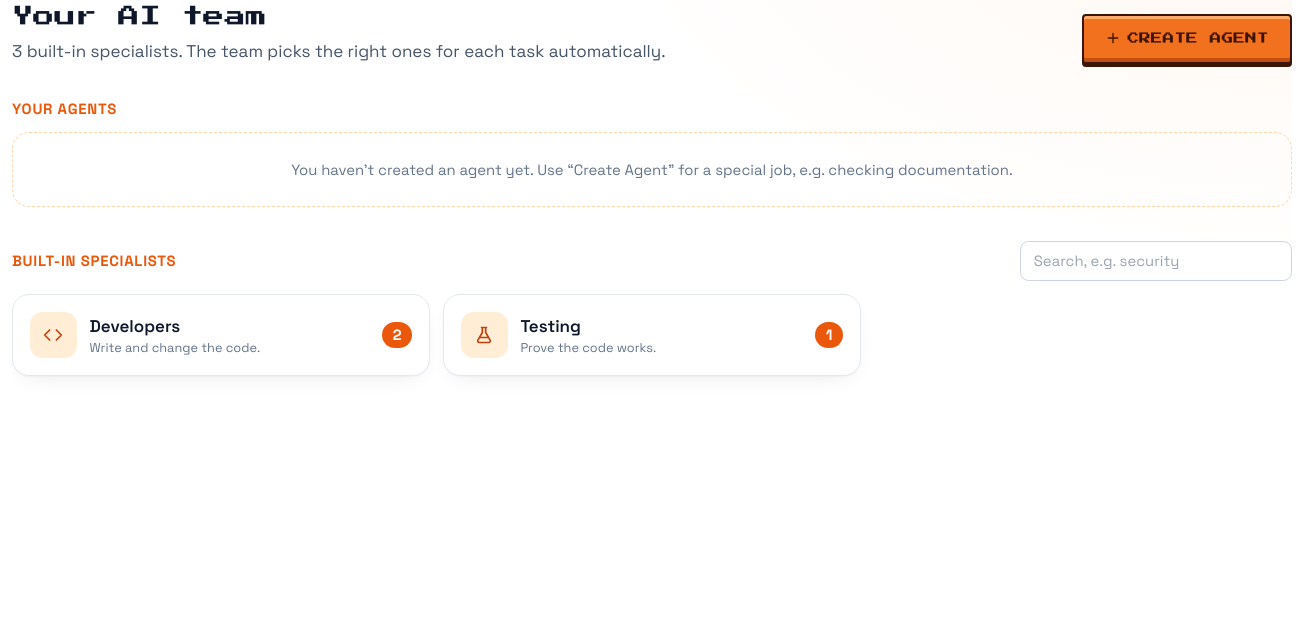
Test: AgentsPage › opens a category to show its agents and their availability
Click the text "Testing": (551, 326) [520,315,581,337]
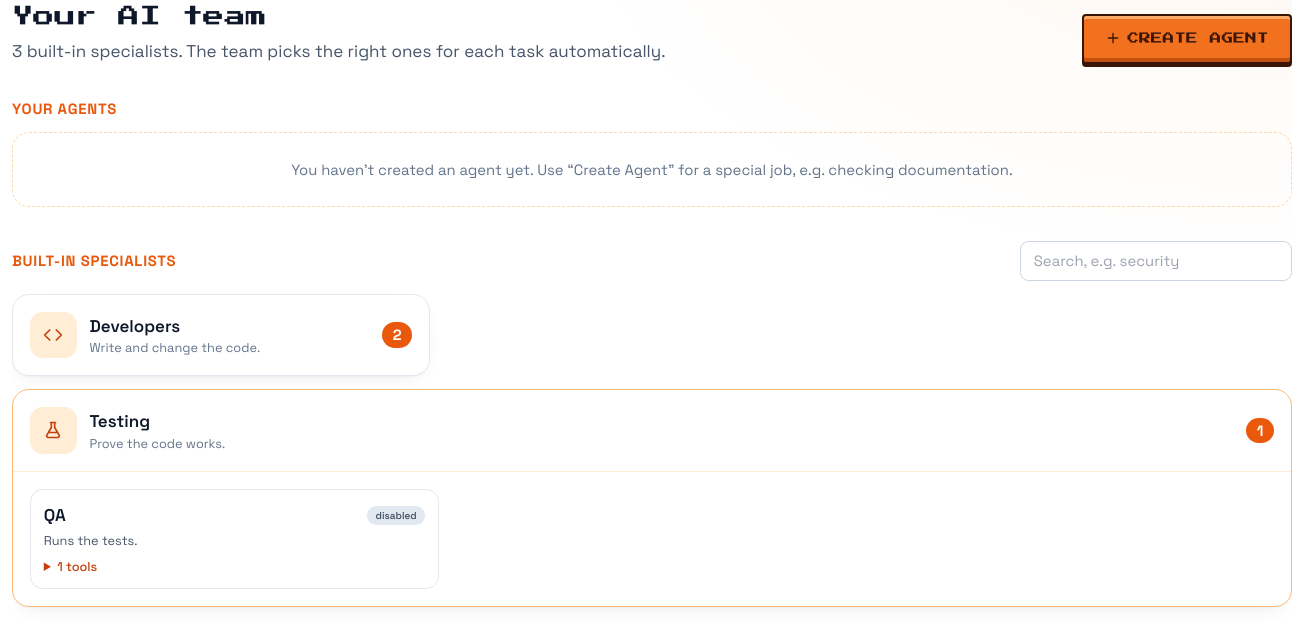
Expected: the text "QA" is shown, [44,502,66,528]
Expected: the text "disabled" is shown, [367,506,425,525]
